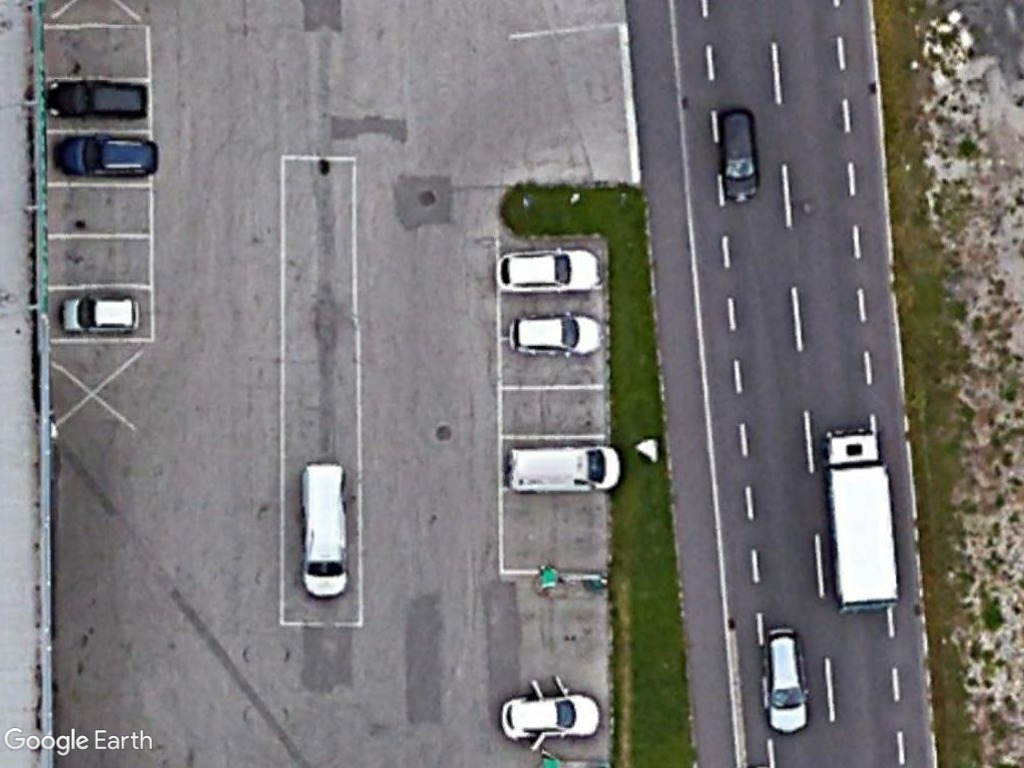car: (761, 624, 812, 739), (494, 246, 604, 297), (495, 691, 602, 743), (50, 132, 161, 181), (40, 77, 153, 124), (508, 311, 607, 361), (715, 105, 762, 202), (56, 293, 146, 337)
truck: (819, 423, 904, 616)
van: (297, 460, 352, 600), (502, 443, 622, 495)
